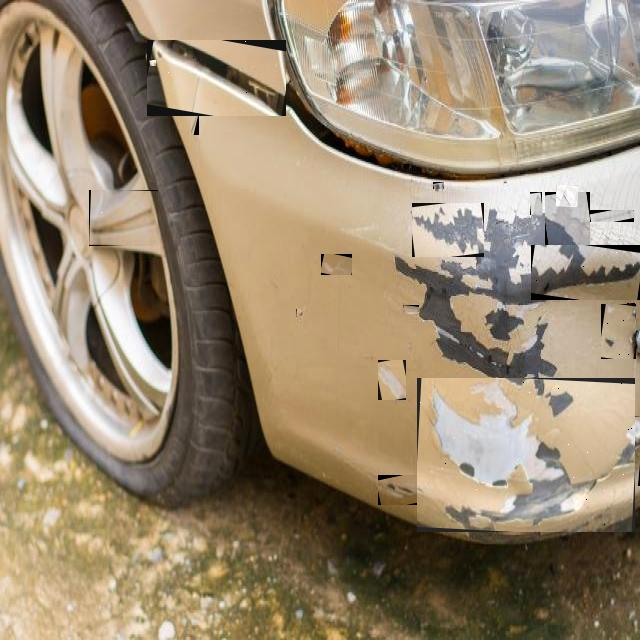Dent: (417, 378, 635, 532), (147, 40, 286, 116), (531, 245, 640, 300), (412, 203, 484, 257), (89, 190, 158, 246), (586, 426, 640, 486), (545, 192, 590, 260), (601, 304, 636, 359), (466, 378, 515, 414), (378, 475, 430, 505), (378, 360, 406, 400), (559, 481, 591, 511), (505, 461, 534, 493), (321, 254, 352, 275), (496, 516, 532, 534), (590, 210, 634, 222), (556, 185, 578, 207), (191, 86, 199, 135), (623, 416, 640, 437), (530, 192, 542, 215), (457, 464, 473, 478), (587, 472, 598, 486), (403, 305, 419, 312), (628, 606, 636, 620), (627, 303, 635, 314), (603, 338, 614, 346), (433, 182, 444, 189), (296, 309, 303, 317), (149, 59, 156, 66)
